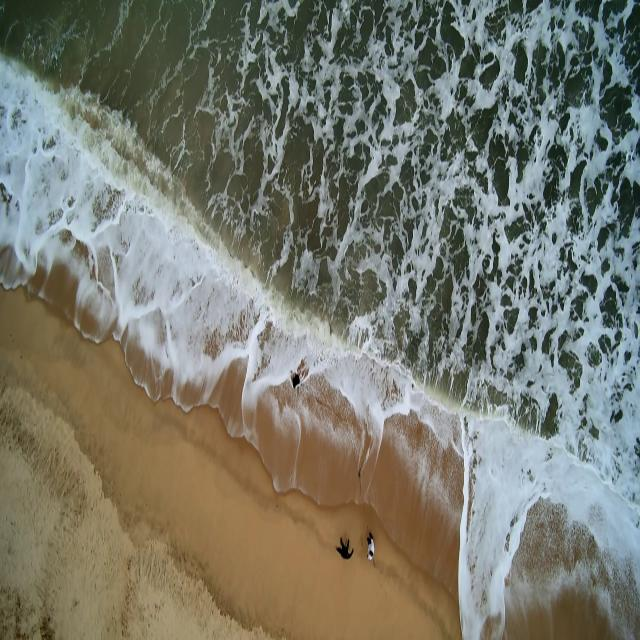dummy: (292, 368, 306, 386)
